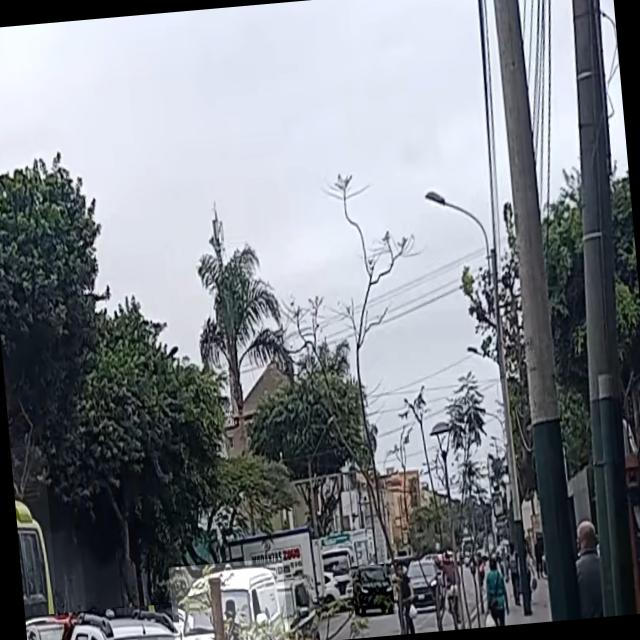bus: (10, 444, 62, 640)
car: (168, 557, 289, 640), (24, 602, 181, 640), (399, 554, 446, 612), (350, 563, 394, 617)
